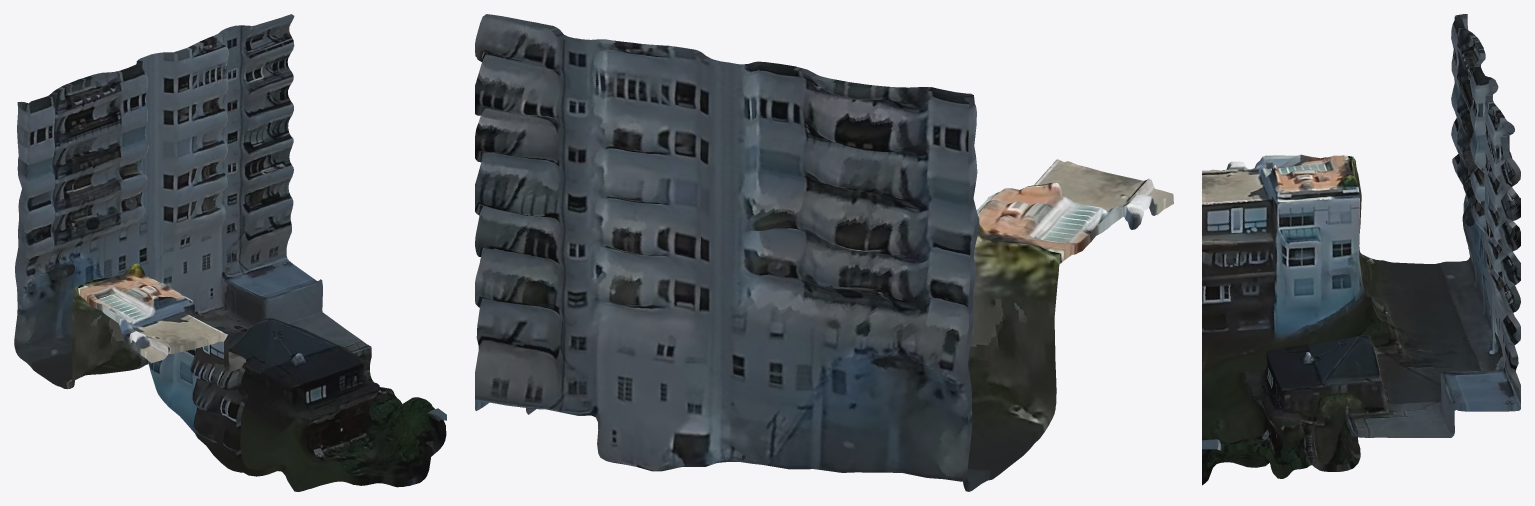
File: z20-167716-405198-h0-yup-uvflip-v3-world.glb
3 renders of one model, left to right at view 1: azimuth 30°, elevation 25°; view 2: azimuth 150°, elevation 25°; view 3: azimuth 270°, elevation 25°, orthographic. The views are drawn at different scales.
Size of the model in its own units: 30.2 by 34.08 by 28.32.
Materials: 1 (1 with a texture image).
